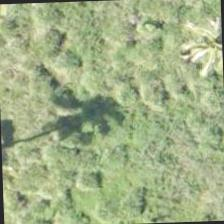Kelapa_Sawit: (164, 0, 222, 93)
